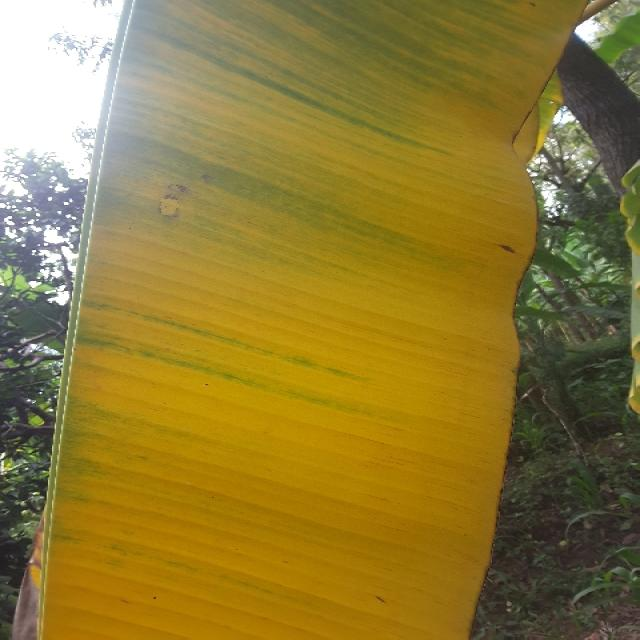Cordana: (0, 0, 577, 639)
